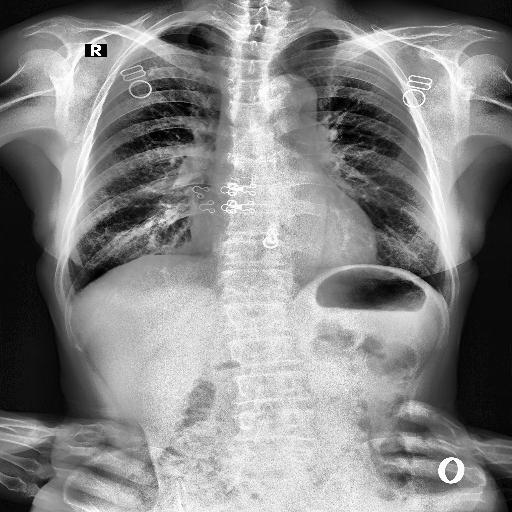0- Aortic enlargement: (269, 74, 318, 162), (269, 75, 318, 123)
13- Pulmonary fibrosis: (142, 62, 182, 80), (146, 64, 162, 77)
